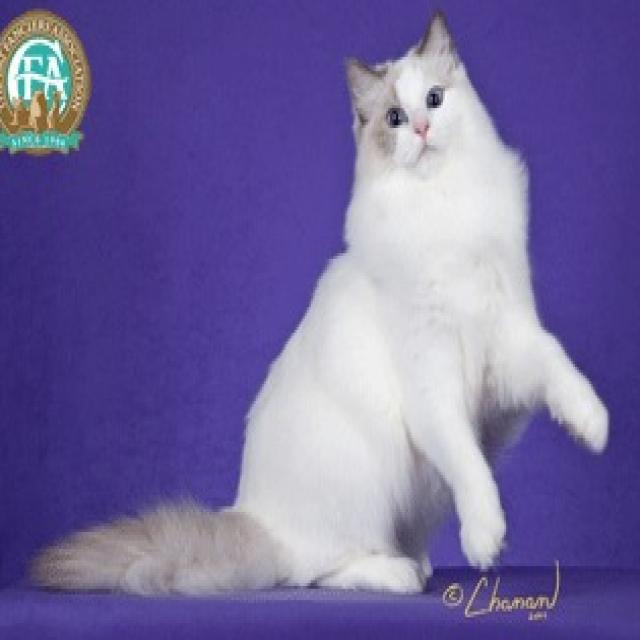Ragdoll: (21, 5, 614, 603)
